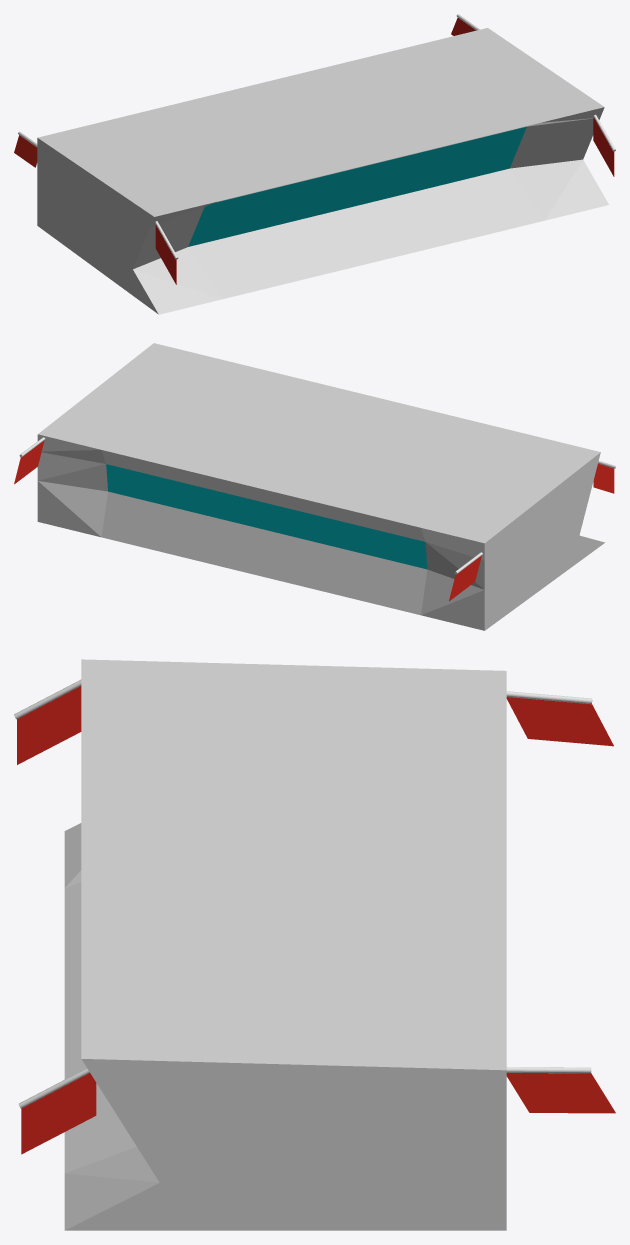
The model's file is edificio central.fbx.
The picture shows the model from 3 angles, top to bottom: view 1: azimuth 30°, elevation 25°; view 2: azimuth 150°, elevation 25°; view 3: azimuth 270°, elevation 25°; orthographic projection. The views are drawn at different scales.
Visible parts, largest first — view 1: Cubo; view 2: Cubo; view 3: Cubo.
Boxes of the visible parts, x1=… form: Cubo: x1=14, y1=14, x2=615, y2=314; Cubo: x1=14, y1=343, x2=615, y2=630; Cubo: x1=14, y1=659, x2=615, y2=1230.
Bounding box in the file's own units: 5603 × 1123 × 3569.
